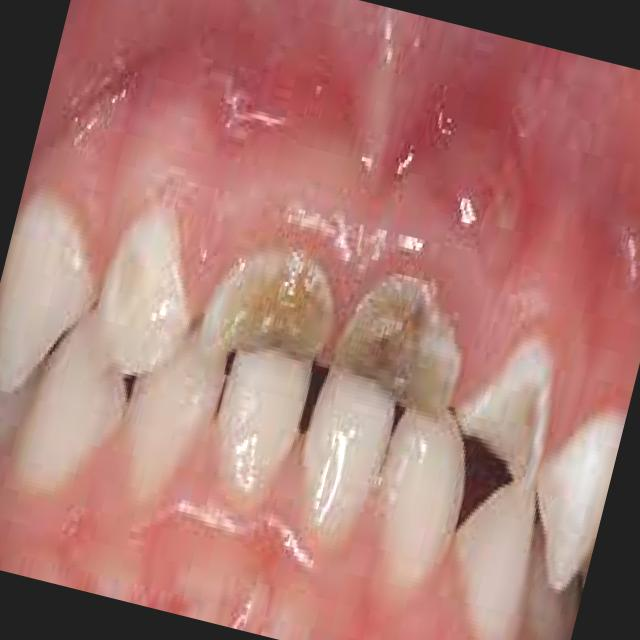caries: (330, 266, 479, 402), (222, 236, 354, 375)
